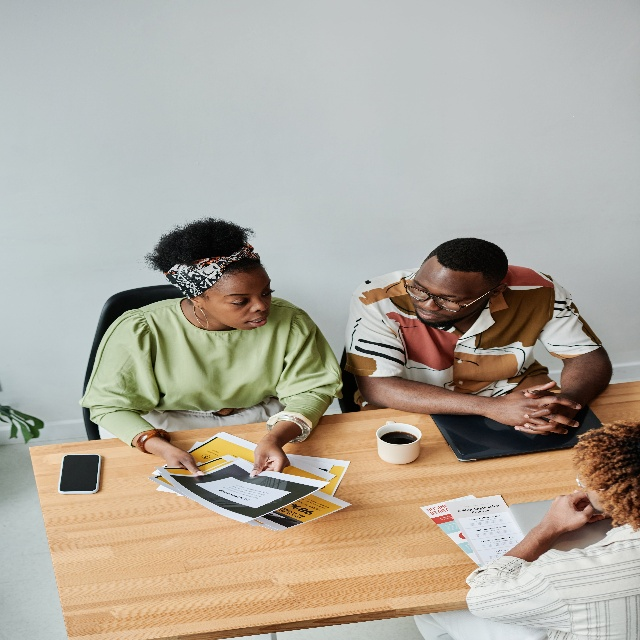Gafas: (403, 270, 502, 313), (491, 281, 507, 298)
Sin_guantes: (500, 378, 582, 436), (514, 380, 562, 435), (544, 487, 594, 534), (250, 432, 291, 480), (167, 443, 206, 478)
